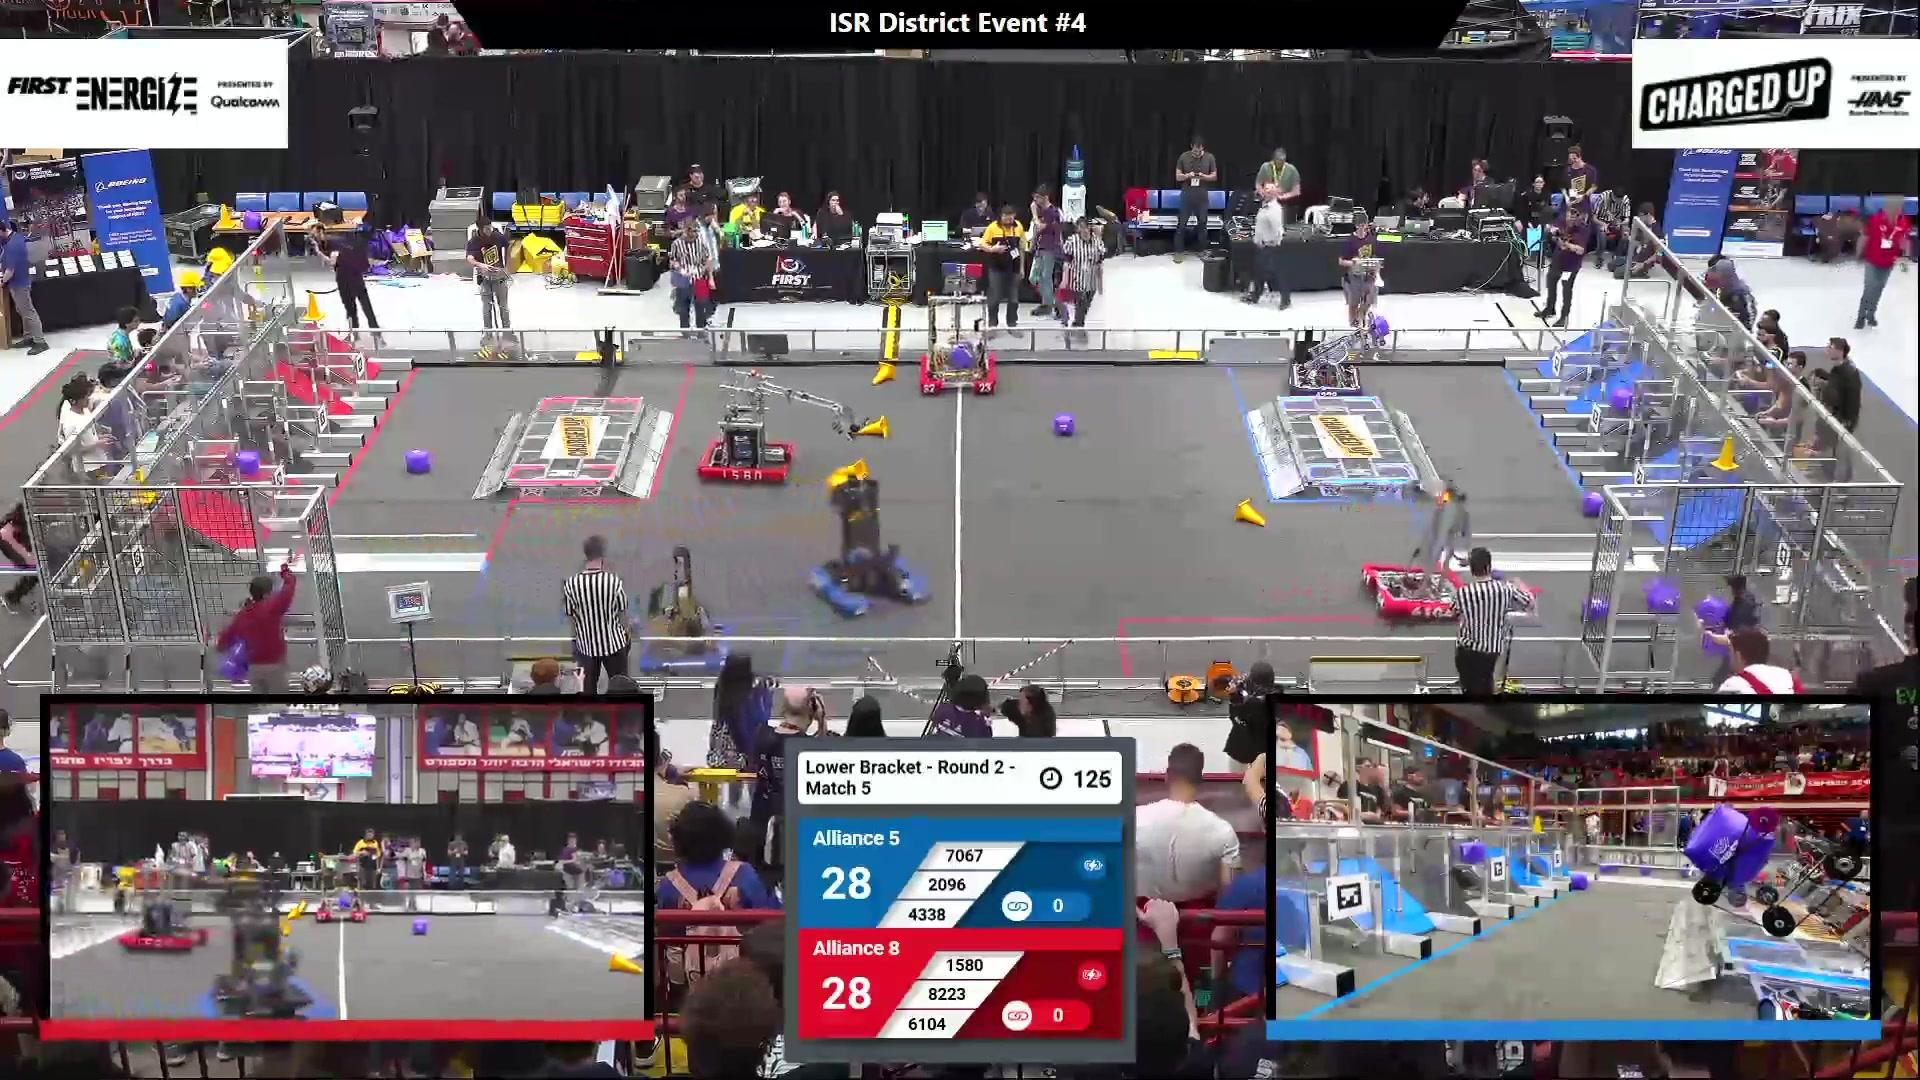robot: (1691, 806, 1870, 1017), (199, 860, 338, 1021), (698, 368, 881, 484), (804, 460, 932, 621), (1365, 479, 1491, 620), (632, 543, 741, 679), (1284, 310, 1391, 400), (916, 285, 996, 394), (113, 866, 210, 952), (314, 860, 369, 922)
